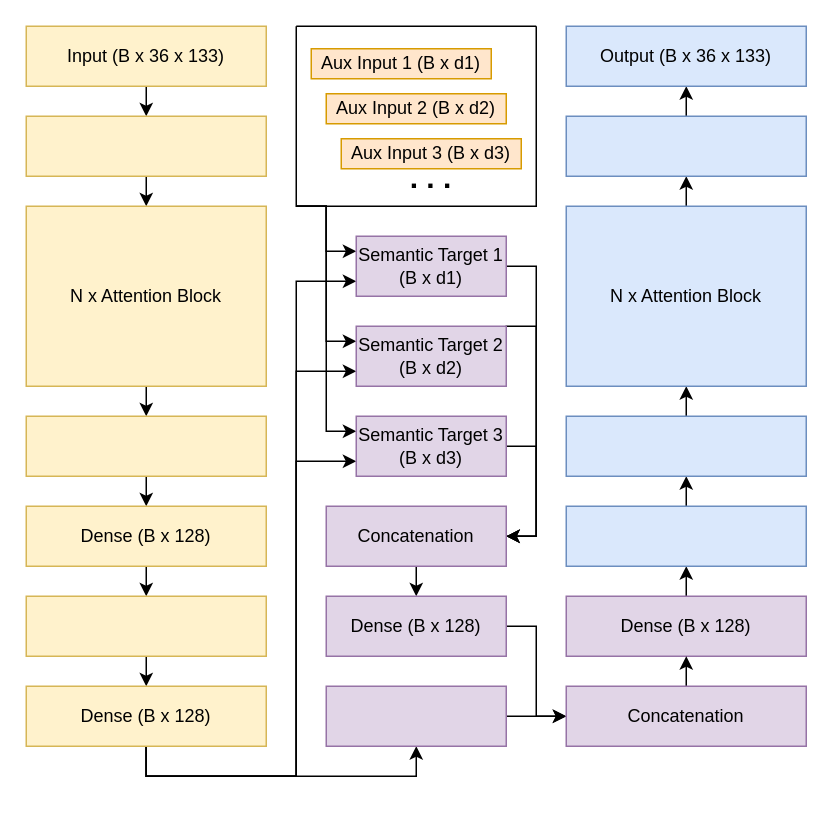
Image size: 833x815. Some labels were removed from this diagram. The shapes that lost their labels are listed below. From the top down, each one's box as (x1, y1, x2, y2) in pixels, then its label:
(25, 115, 266, 176): Batch Normalization
(565, 115, 806, 176): Conv1D (B x 36 x 133)
(25, 415, 266, 476): 1D Global Pooling
(565, 415, 806, 476): Reshape (B x 36 x 133)
(565, 505, 806, 566): Dense (B x 4788)
(25, 595, 266, 656): Dropout (0.4)
(325, 685, 506, 746): Variational Latent Space
